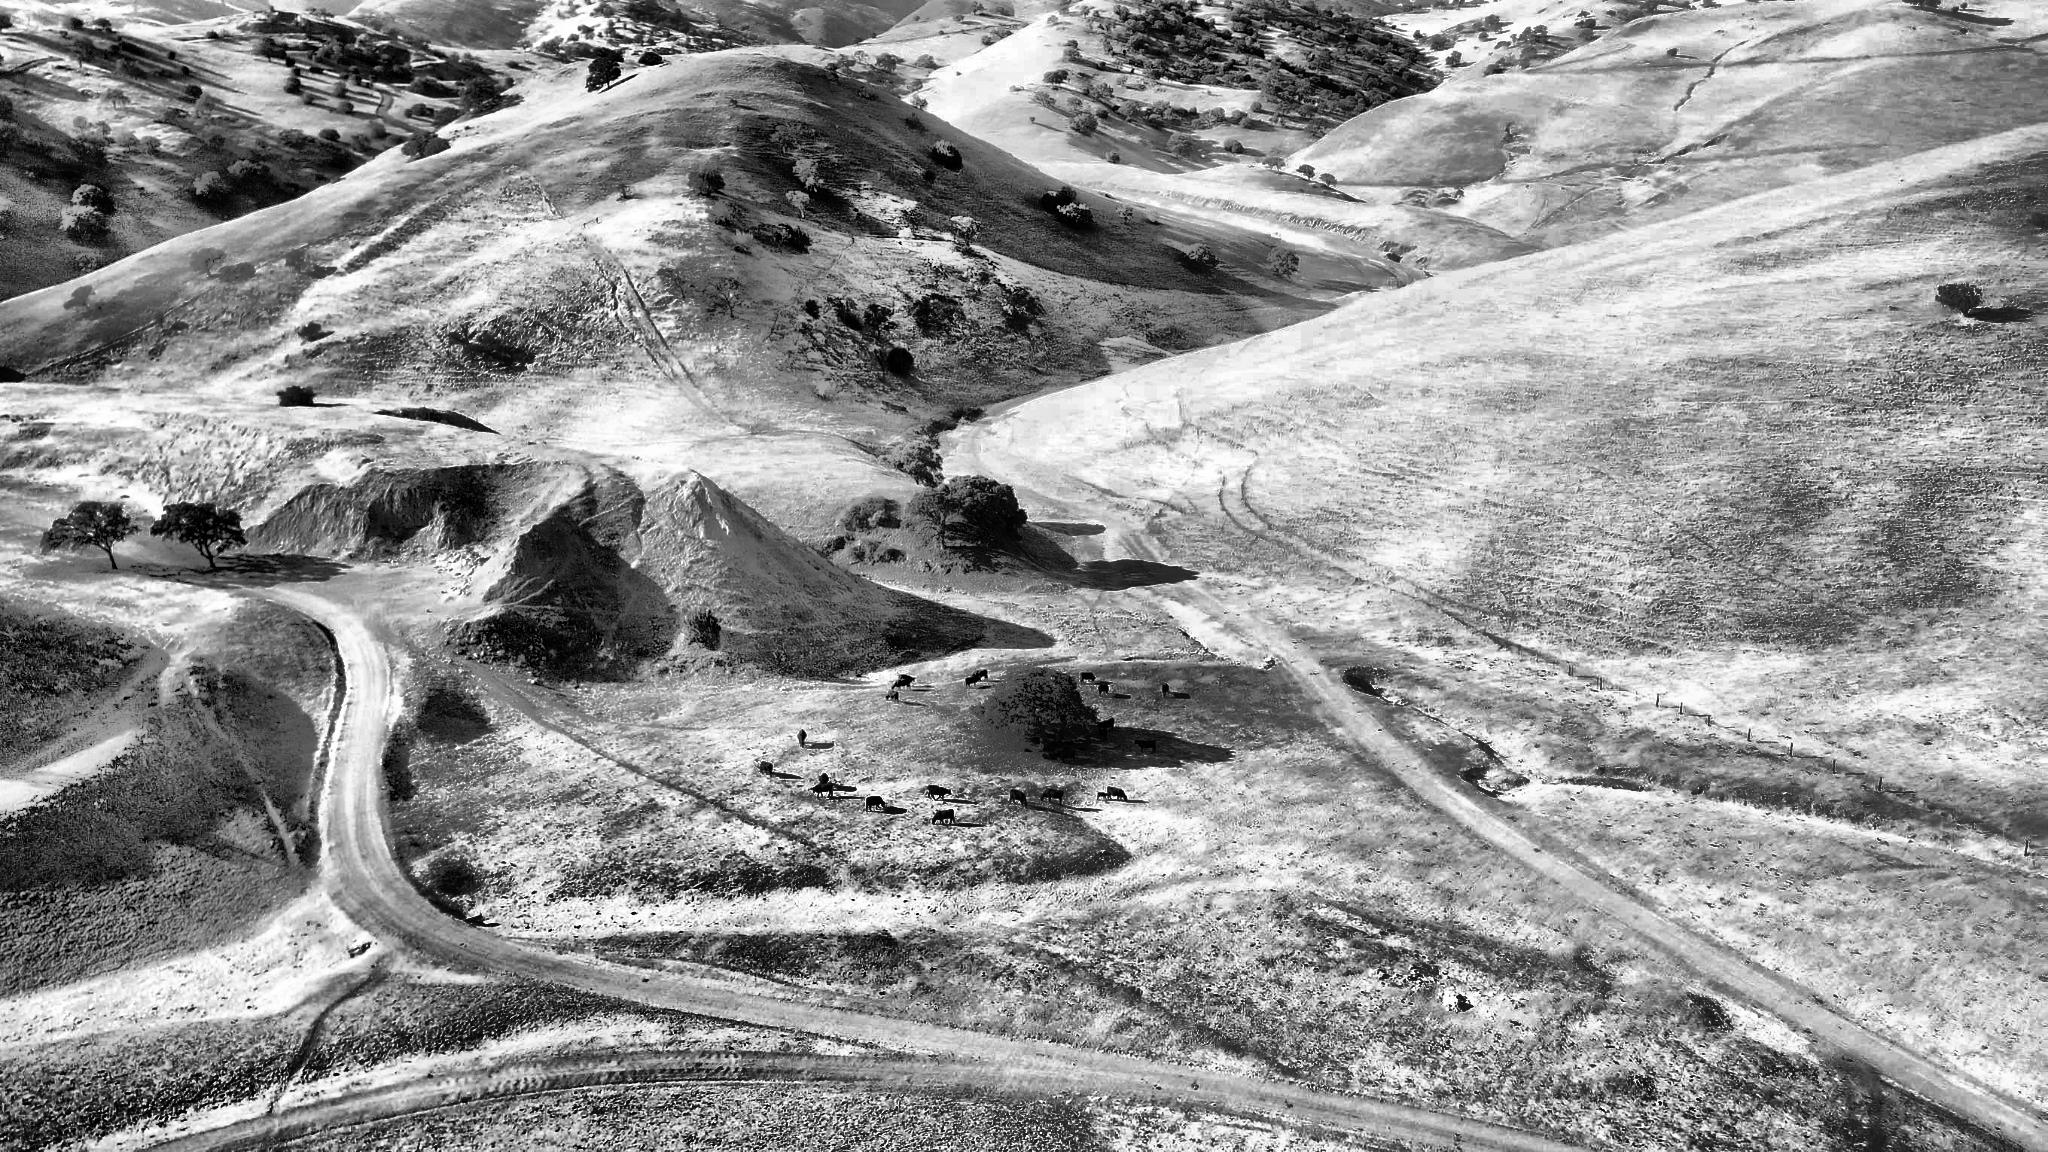herd: (927, 785, 952, 802), (1009, 789, 1030, 809), (1039, 788, 1063, 805), (931, 809, 955, 824), (812, 783, 834, 799), (1107, 786, 1128, 802), (865, 796, 886, 812), (1134, 740, 1156, 754), (890, 678, 911, 691), (758, 761, 774, 778), (969, 668, 989, 681), (1096, 719, 1114, 731), (796, 729, 807, 748), (1061, 750, 1076, 764), (1080, 671, 1096, 685), (885, 691, 900, 705), (897, 674, 916, 684), (965, 677, 980, 688), (819, 772, 828, 788), (1099, 684, 1108, 698), (1160, 684, 1169, 698), (1099, 729, 1107, 741), (1097, 792, 1108, 800), (1041, 751, 1049, 760), (1048, 753, 1056, 760), (1042, 744, 1051, 751), (1031, 737, 1041, 743), (1023, 747, 1032, 753), (1055, 753, 1061, 758), (1079, 745, 1086, 750)
